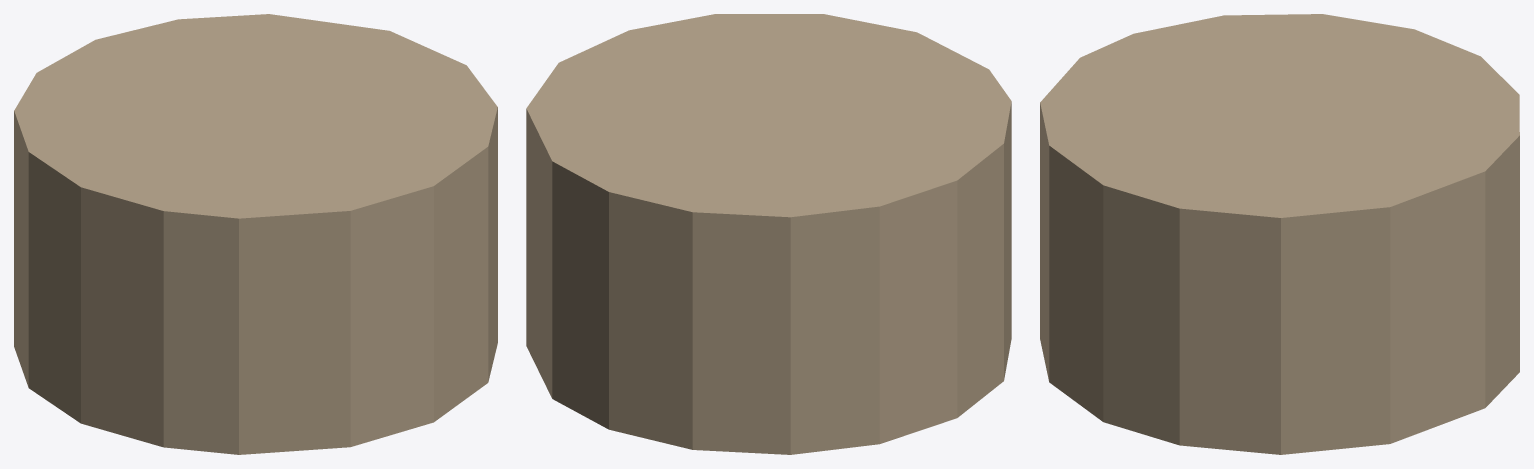
Rendered from bld_100478263.dae.
3 views of the same model, side by side, from view 1: azimuth 30°, elevation 25°; view 2: azimuth 150°, elevation 25°; view 3: azimuth 270°, elevation 25° (orthographic).
Parts seen in each view (by area): view 1: bld_100478263; view 2: bld_100478263; view 3: bld_100478263.
Boxes of the visible parts, x1,y1,x2,y2 form: bld_100478263: (14, 14, 497, 454); bld_100478263: (526, 14, 1011, 454); bld_100478263: (1040, 14, 1519, 454).
Bounding box in the file's own units: 14.78 × 14.68 × 8.
